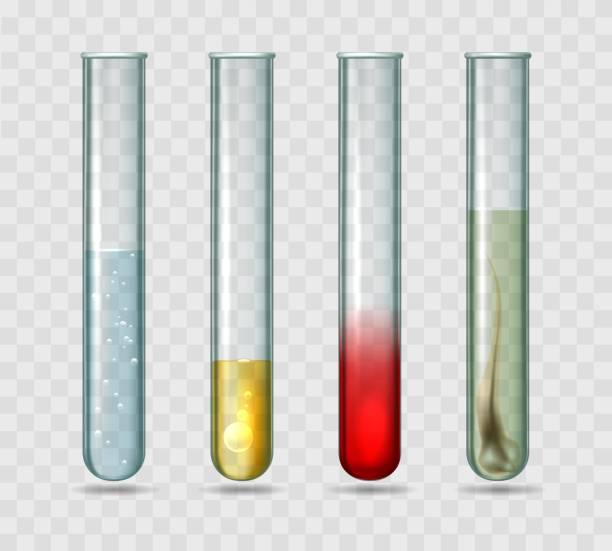Test tube: (321, 20, 407, 501), (456, 40, 546, 496), (204, 36, 284, 482), (80, 56, 144, 490)
